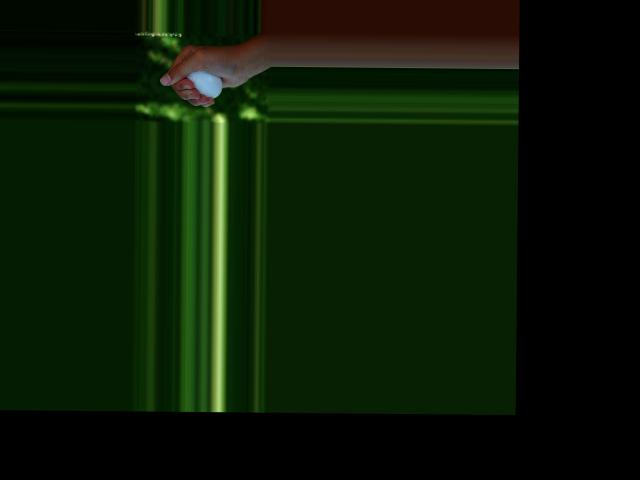egg: (185, 71, 222, 98)
